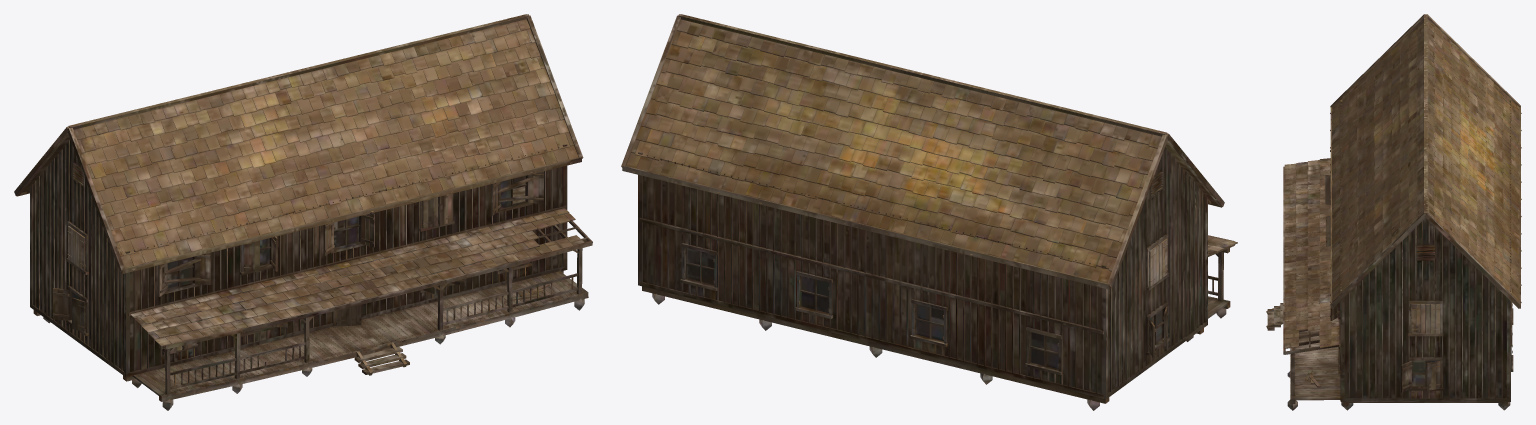
The model's file is lodge-x01n08ZZ.glb.
3 views of the same model, side by side, from view 1: azimuth 30°, elevation 25°; view 2: azimuth 150°, elevation 25°; view 3: azimuth 270°, elevation 25° (orthographic). The views are drawn at different scales.
Parts seen in each view (by area): view 1: Body; view 2: Body; view 3: Body.
Part boxes in pixels (left/top/right/bottom): Body: left=14, top=14, right=592, bottom=410; Body: left=621, top=14, right=1237, bottom=410; Body: left=1266, top=14, right=1521, bottom=410.
Size of the model in its own units: 2 by 0.9668 by 1.07.
Materials: 1 (1 with a texture image).
